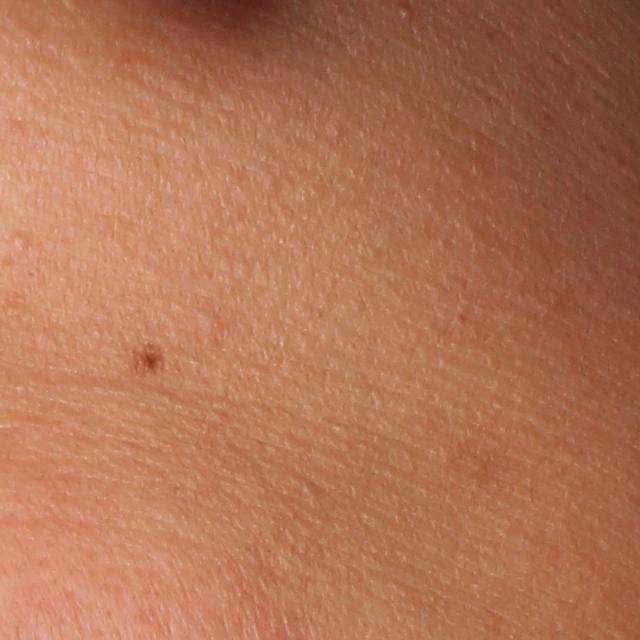comedo: (11, 232, 32, 253), (398, 5, 412, 23)
nevus: (127, 338, 172, 377)
